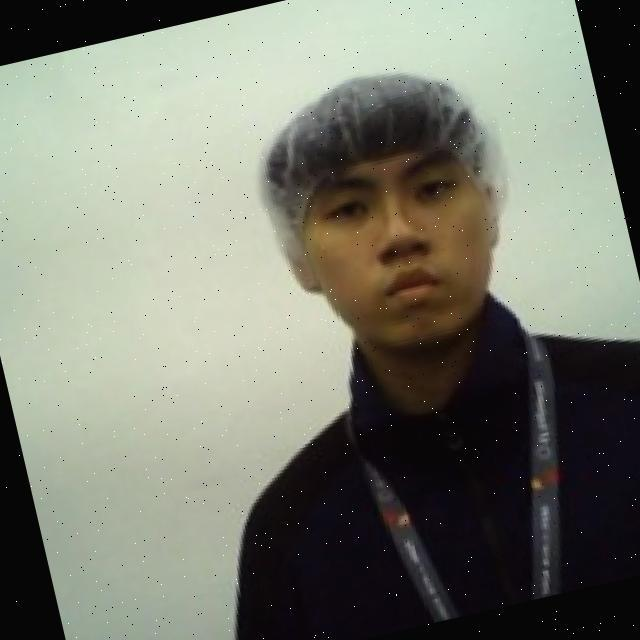gloves: (241, 43, 522, 304)
no_hairnet: (283, 160, 536, 377)
